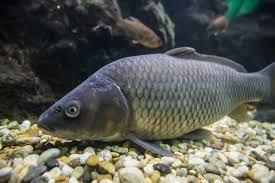Grass Carp: (38, 47, 275, 155)
